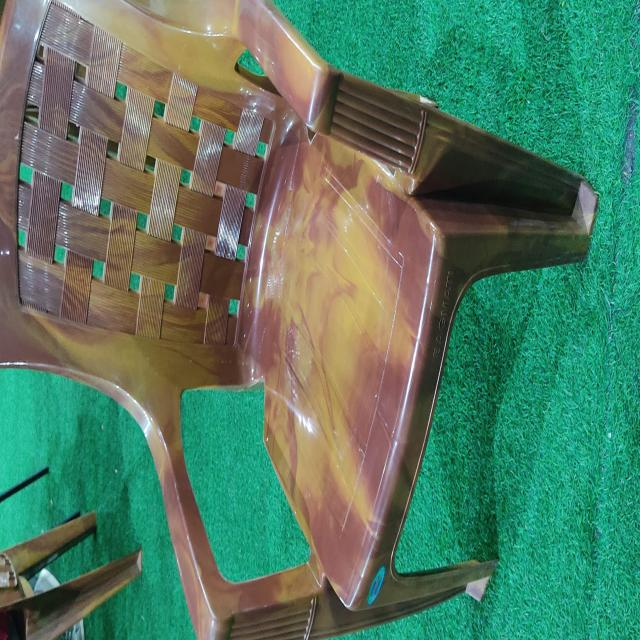Camer Stand: (1, 1, 599, 637)
